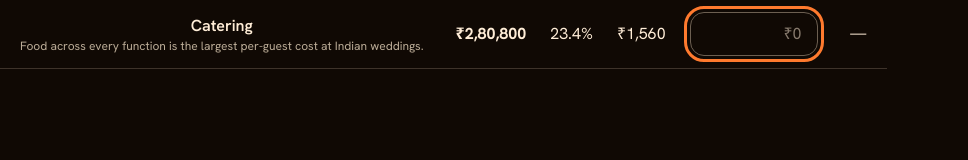
Scenario: BudgetRow spent-so-far error › is announced when Enter checks the value, with focus still in the field
Type "-5" into the field named "spent so far on" at (754, 34), box [690, 12, 818, 56]
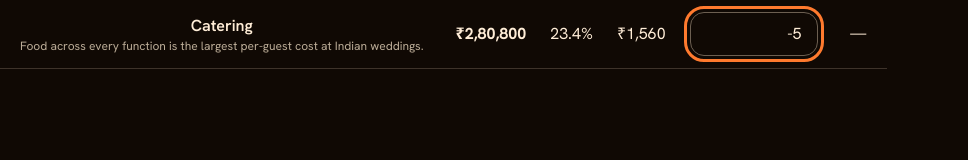
Press Enter in the field named "spent so far on", box [690, 12, 818, 56]
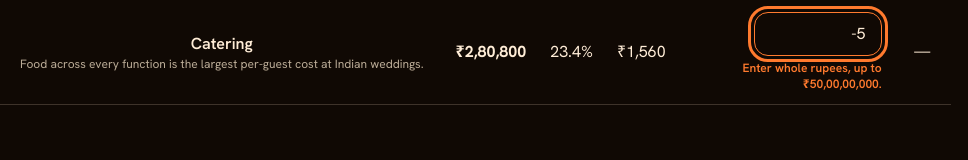
expect the message "Enter whole rupees, up to ₹50,00,00,000." is shown: met, box [742, 60, 882, 92]
